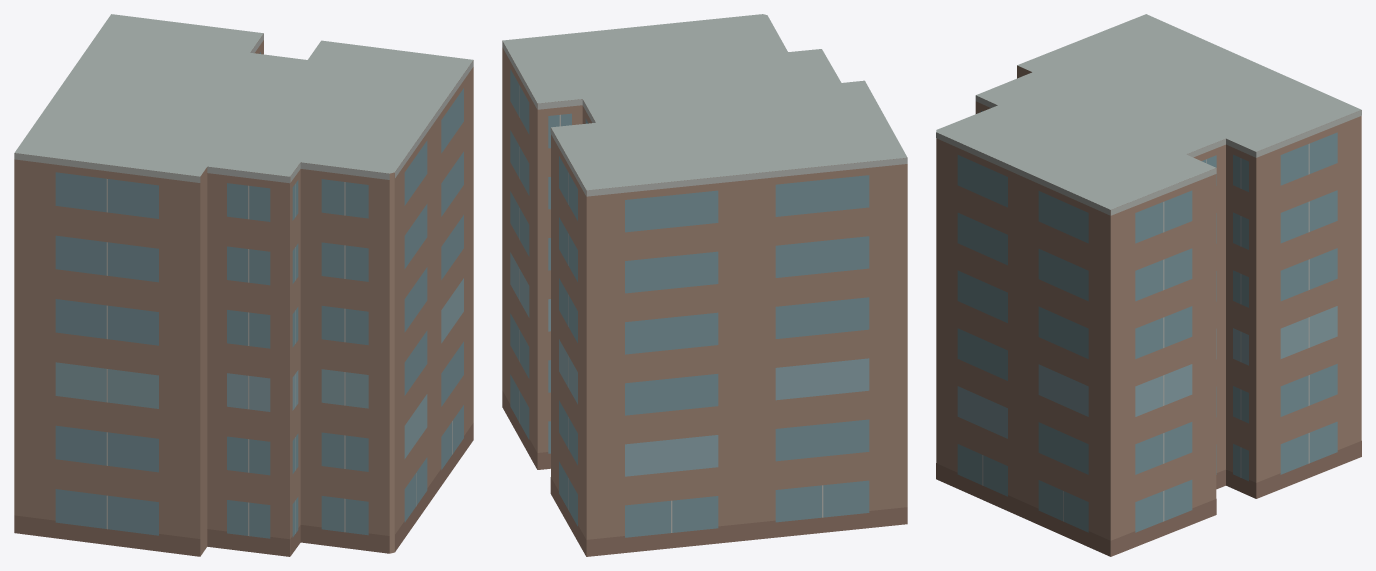
The model's file is survey-upis-32661808.glb.
The picture shows the model from 3 angles, left to right: view 1: azimuth 30°, elevation 25°; view 2: azimuth 150°, elevation 25°; view 3: azimuth 270°, elevation 25°; orthographic projection. The views are drawn at different scales.
Parts seen in each view (by area): view 1: survey-upis-32661808.tmp; view 2: survey-upis-32661808.tmp; view 3: survey-upis-32661808.tmp.
Part boxes in pixels (x1,y1,x2,y2): survey-upis-32661808.tmp: [14, 14, 473, 556]; survey-upis-32661808.tmp: [502, 14, 907, 556]; survey-upis-32661808.tmp: [936, 14, 1361, 556].
Bounding box in the file's own units: 17.32 × 14.3 × 15.91.
